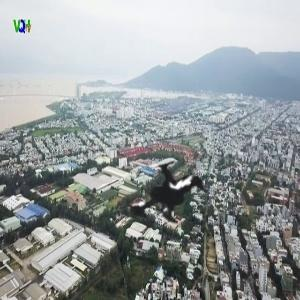drone: (37, 63, 261, 287)
